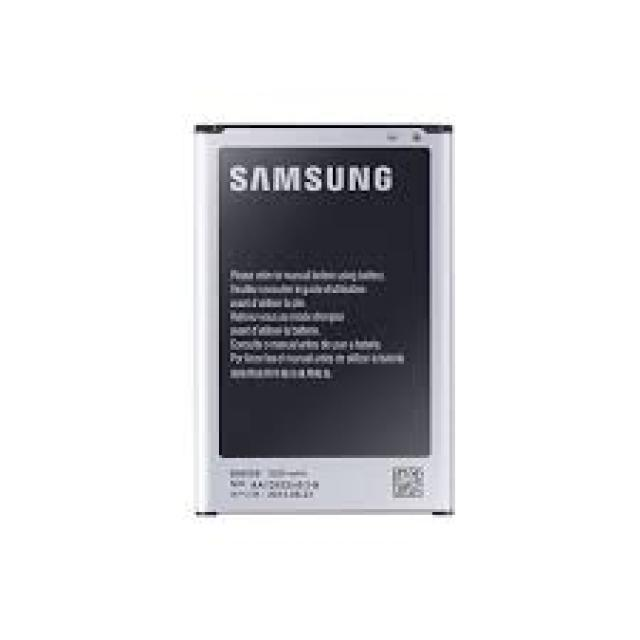Battery: (166, 86, 494, 559)
